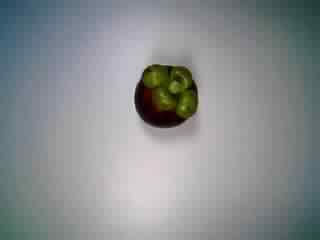mangosteen: (127, 56, 205, 131)
